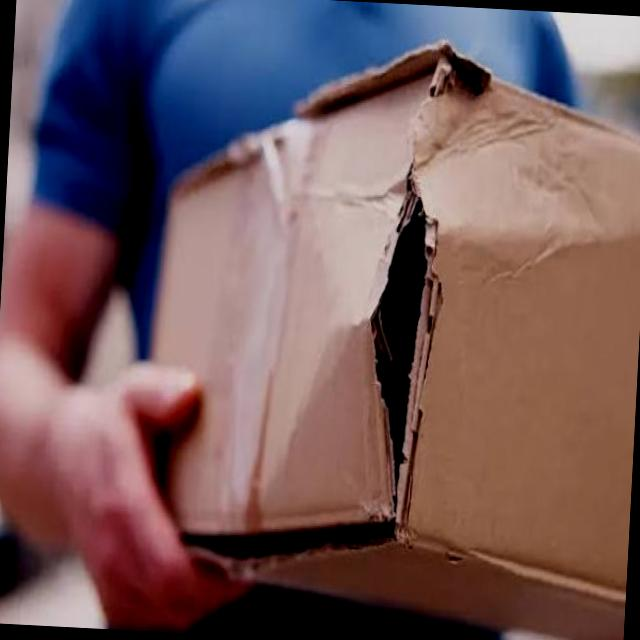package_damage: (338, 29, 506, 567), (170, 496, 412, 590)
